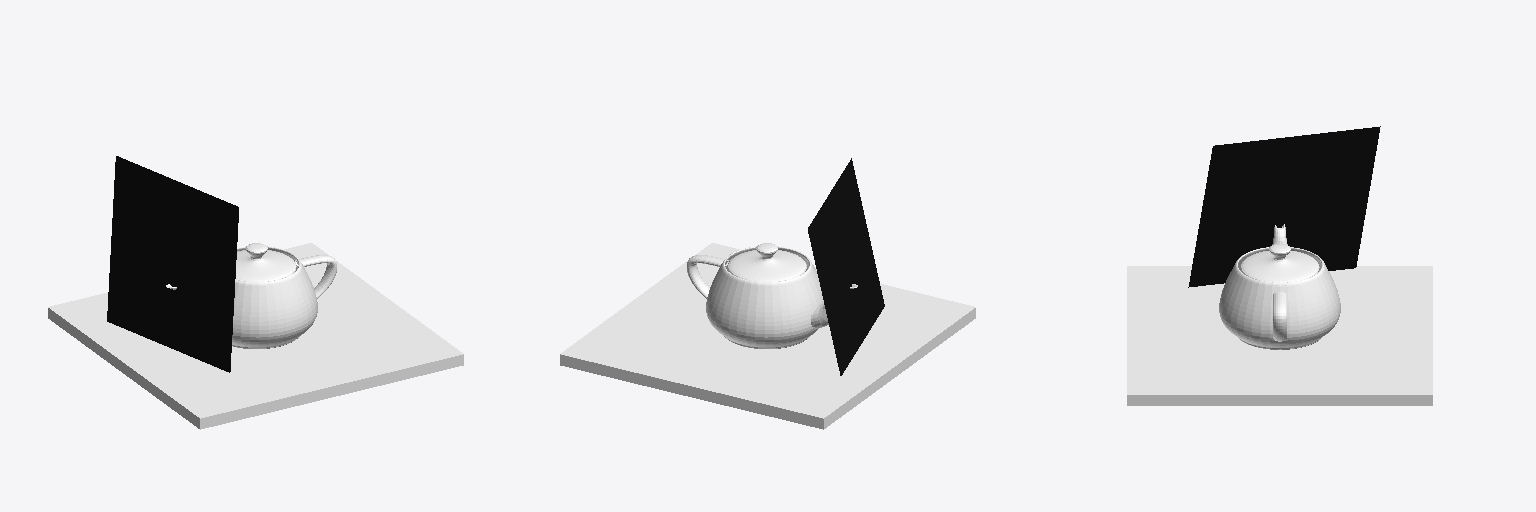
3 renders of one model, left to right at view 1: azimuth 30°, elevation 25°; view 2: azimuth 150°, elevation 25°; view 3: azimuth 270°, elevation 25°, orthographic.
Visible parts, largest first — view 1: Cube_Cube.002, Mirror, teapot; view 2: Cube_Cube.002, teapot, Mirror; view 3: Cube_Cube.002, Mirror, teapot.
Part boxes in pixels (x1,y1,x2,y2): Cube_Cube.002: (48,243,463,429); Mirror: (107,156,238,372); teapot: (166,243,336,348); Cube_Cube.002: (560,243,975,429); teapot: (687,243,857,348); Mirror: (808,158,884,375); Cube_Cube.002: (1127,266,1432,405); Mirror: (1188,126,1380,287); teapot: (1219,224,1340,349).
Size of the model in its own units: 10 by 6.2 by 10.